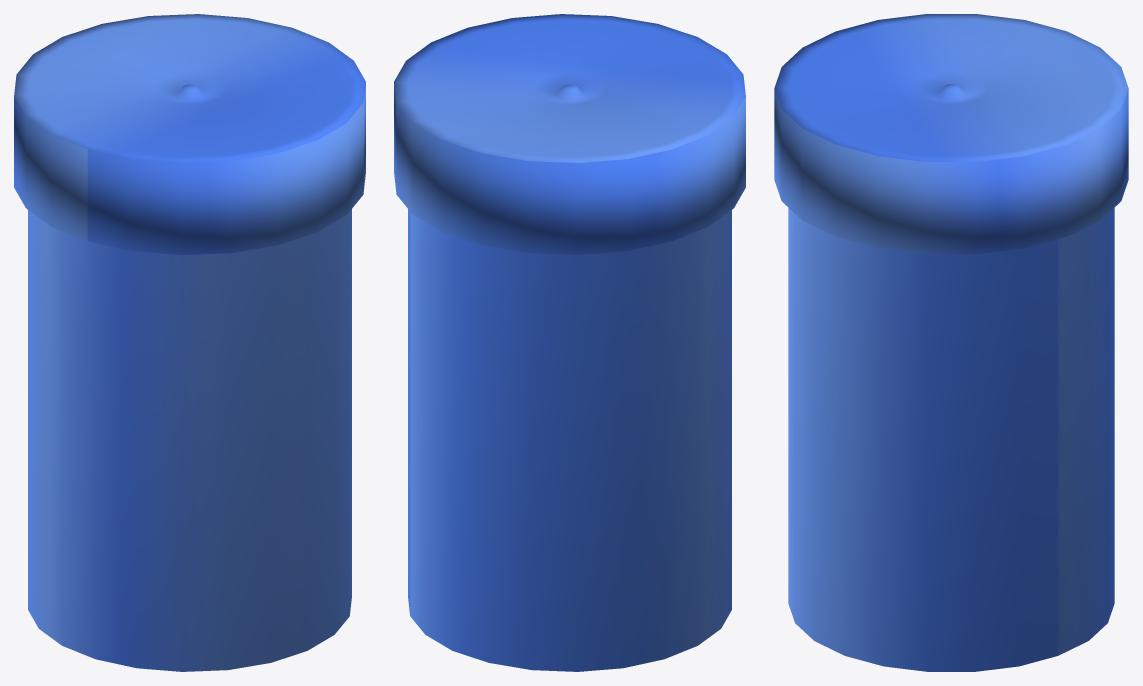
Rendered from Табл.вода.fbx.
The picture shows the model from 3 angles, left to right: view 1: azimuth 30°, elevation 25°; view 2: azimuth 150°, elevation 25°; view 3: azimuth 270°, elevation 25°; orthographic projection.
Parts seen in each view (by area): view 1: LP; view 2: LP; view 3: LP.
Boxes of the visible parts, x1,y1,x2,y2 form: LP: [14, 14, 365, 671]; LP: [394, 14, 745, 671]; LP: [774, 14, 1128, 671].
Bounding box in the file's own units: 225 × 367 × 228.
